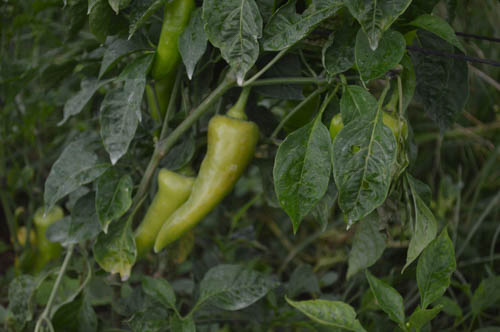ChiliPepper: (158, 113, 258, 250), (134, 169, 194, 254), (154, 10, 189, 75), (32, 208, 65, 264)
